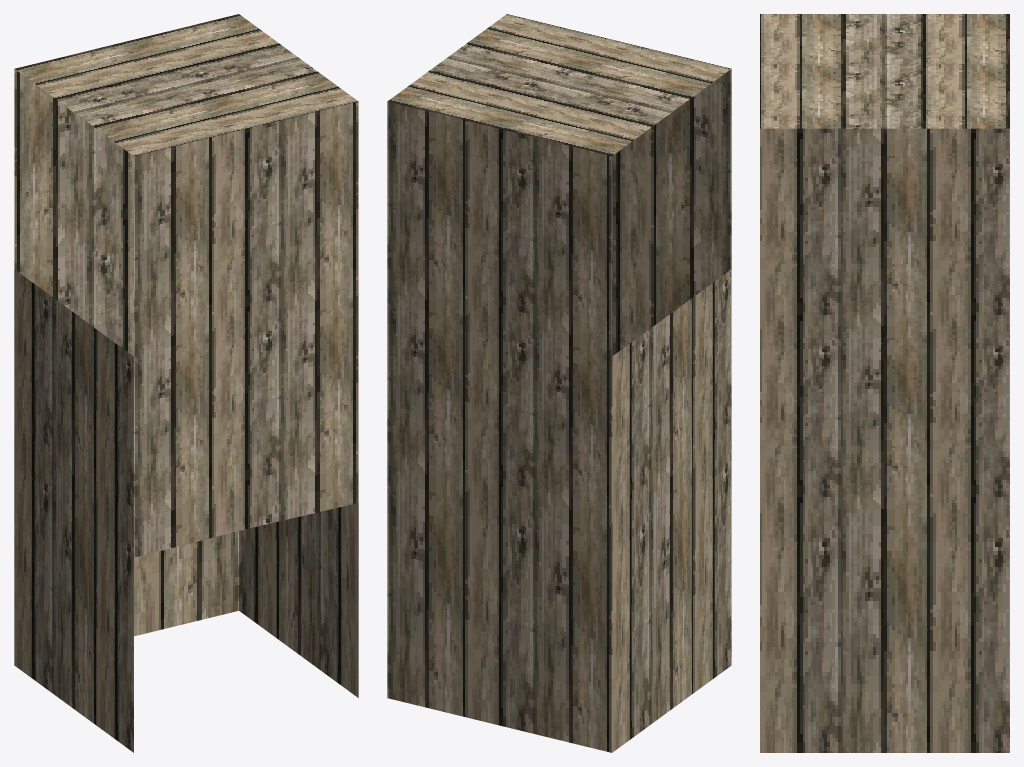
The model's file is LAKETOWN_WAREHOUSE2_PS_WH2_WALL838376.fbx.
3 renders of one model, left to right at view 1: azimuth 30°, elevation 25°; view 2: azimuth 150°, elevation 25°; view 3: azimuth 270°, elevation 25°, orthographic. The views are drawn at different scales.
Visible parts, largest first — view 1: LAKETOWN_WAREHOUSE2_PS_WH2_WALL838376; view 2: LAKETOWN_WAREHOUSE2_PS_WH2_WALL838376; view 3: LAKETOWN_WAREHOUSE2_PS_WH2_WALL838376.
Part boxes in pixels (box(x1,y1,x2,y2)): LAKETOWN_WAREHOUSE2_PS_WH2_WALL838376: box(14, 14, 358, 752); LAKETOWN_WAREHOUSE2_PS_WH2_WALL838376: box(387, 14, 731, 752); LAKETOWN_WAREHOUSE2_PS_WH2_WALL838376: box(760, 14, 1009, 752).
Size of the model in its own units: 23858 by 60575 by 21973.
Materials: 1 (1 with a texture image).
